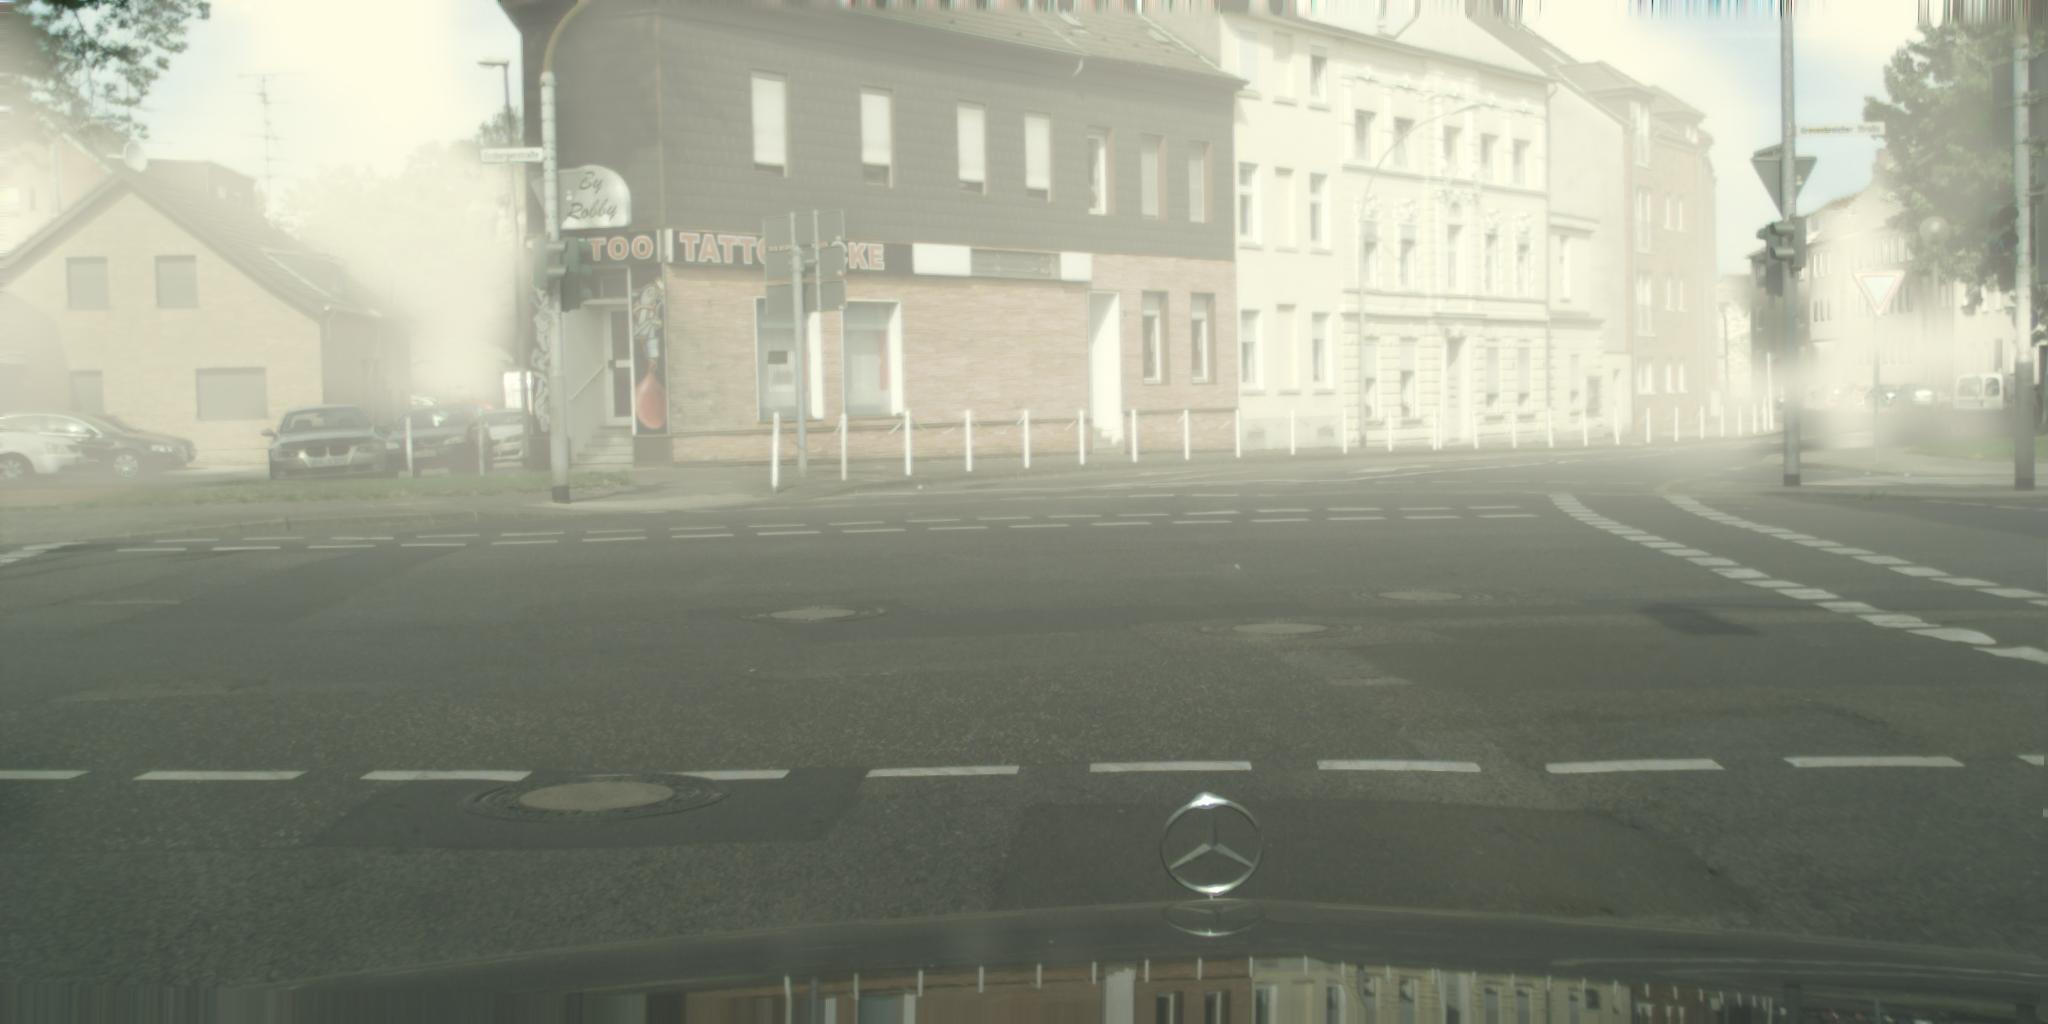car: (1, 411, 188, 479), (260, 404, 391, 487), (381, 405, 496, 482), (61, 413, 199, 469), (1, 417, 85, 487), (1950, 374, 2024, 435), (470, 409, 543, 469)
truck: (502, 374, 541, 423)
